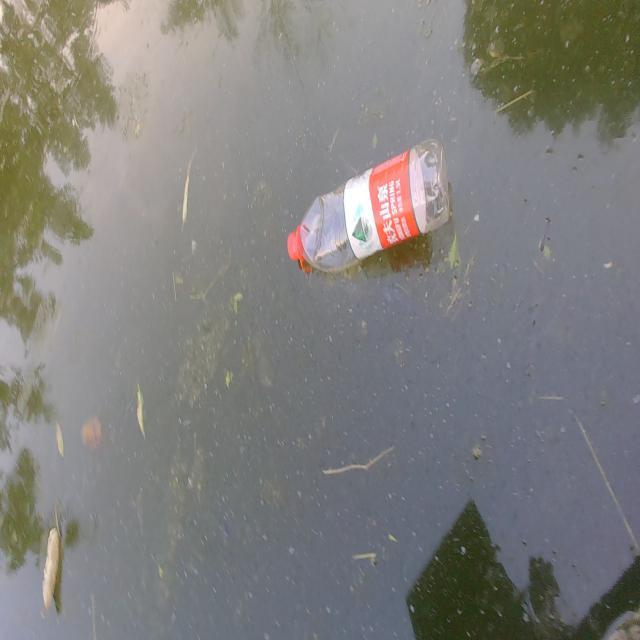garbage: (286, 137, 450, 275)
